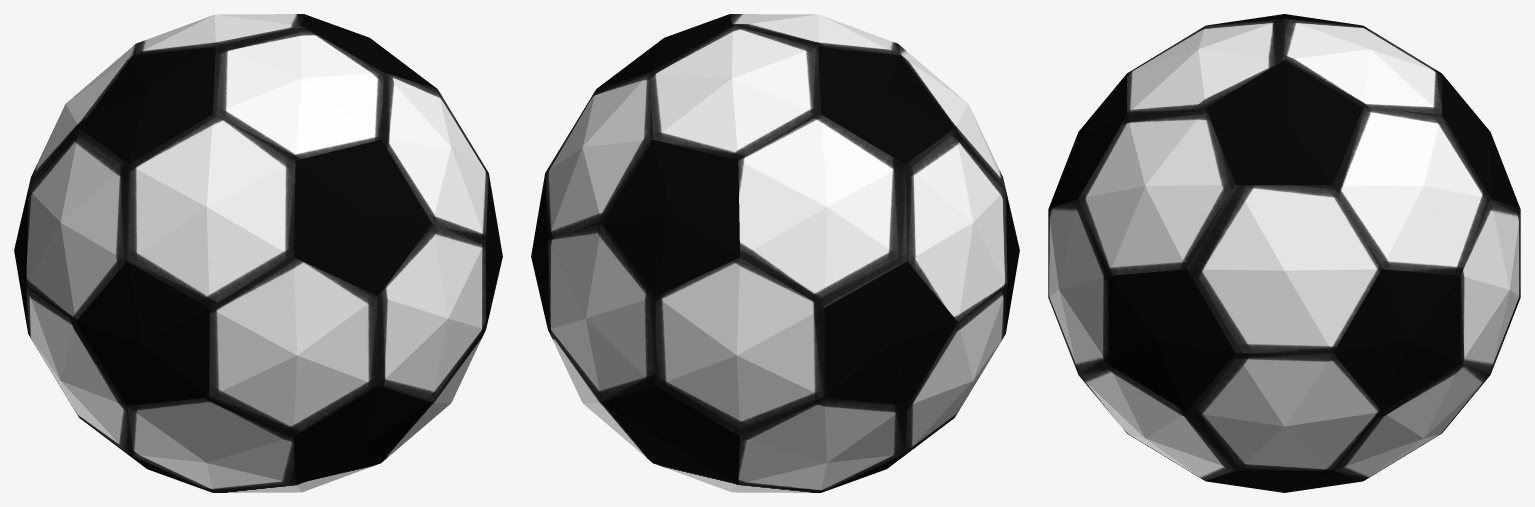
Rendered from soccerballlined.fbx.
3 renders of one model, left to right at view 1: azimuth 30°, elevation 25°; view 2: azimuth 150°, elevation 25°; view 3: azimuth 270°, elevation 25°, orthographic.
Parts seen in each view (by area): view 1: Layer0_001; view 2: Layer0_001; view 3: Layer0_001.
Boxes of the visible parts, bbox=[...] form: Layer0_001: bbox=[14, 14, 502, 492]; Layer0_001: bbox=[531, 14, 1019, 492]; Layer0_001: bbox=[1048, 14, 1520, 492].
Size of the model in its own units: 67.29 by 67.29 by 67.29.
Materials: 1 (1 with a texture image).
